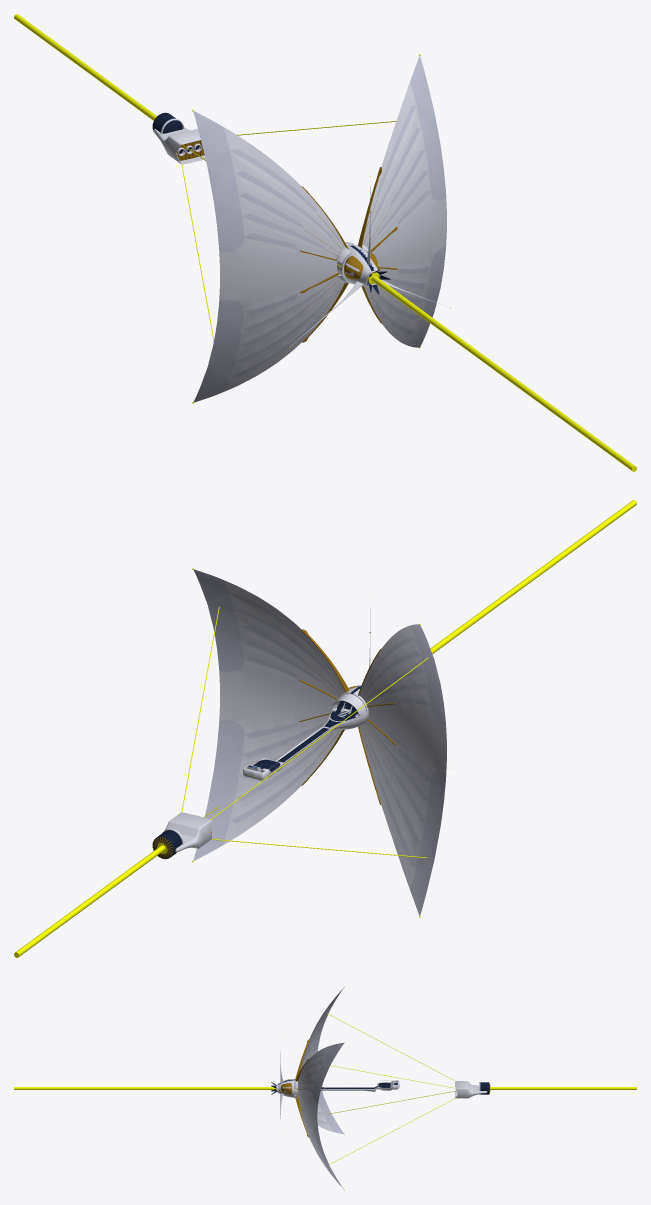
The model's file is TRON_SUNSHIP.dae.
3 renders of one model, top to bottom at view 1: azimuth 30°, elevation 25°; view 2: azimuth 150°, elevation 25°; view 3: azimuth 270°, elevation 25°, orthographic. The views are drawn at different scales.
Parts seen in each view (by area): view 1: Group15, Group39, Group16, Group20, Group17; view 2: Group39, Group15, Group16, Group20, Group17, Group2; view 3: Group39, Group16, Group15, Group20, Group2, Group17.
Boxes of the visible parts, left/top/right/bottom form: Group15: left=193, top=111, right=344, bottom=402; Group39: left=362, top=56, right=446, bottom=347; Group16: left=14, top=14, right=636, bottom=471; Group20: left=290, top=187, right=449, bottom=346; Group17: left=153, top=118, right=205, bottom=164; Group39: left=193, top=569, right=344, bottom=860; Group15: left=359, top=624, right=446, bottom=915; Group16: left=14, top=500, right=636, bottom=957; Group20: left=243, top=607, right=370, bottom=780; Group17: left=162, top=812, right=211, bottom=852; Group2: left=181, top=606, right=428, bottom=858; Group39: left=298, top=1043, right=343, bottom=1188; Group16: left=14, top=1087, right=636, bottom=1089; Group15: left=300, top=988, right=343, bottom=1133; Group20: left=276, top=1051, right=399, bottom=1118; Group2: left=327, top=1013, right=455, bottom=1164; Group17: left=455, top=1081, right=487, bottom=1098.
Bounding box in the file's own units: 3462 × 4258 × 16222.
Materials: 25 (7 with a texture image).
